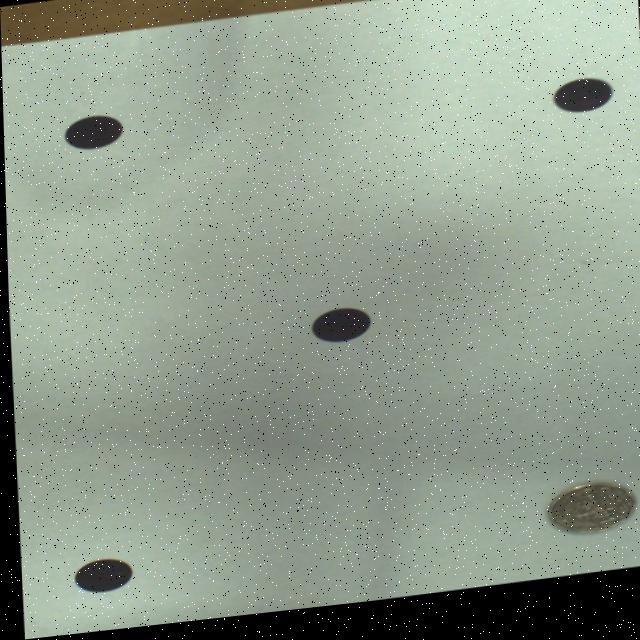space: (309, 314, 369, 349), (552, 91, 612, 124), (63, 116, 121, 150), (71, 559, 128, 593)
tail5bath: (544, 495, 631, 546)
